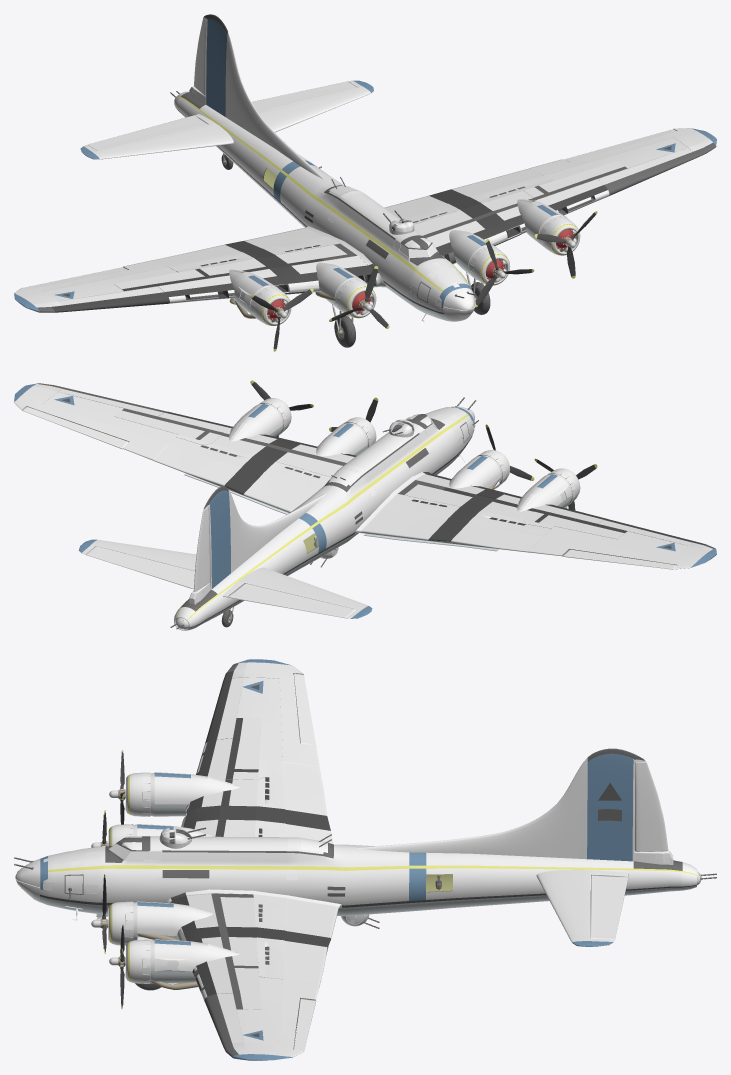
The picture shows the model from 3 angles, top to bottom: view 1: azimuth 30°, elevation 25°; view 2: azimuth 150°, elevation 25°; view 3: azimuth 270°, elevation 25°; orthographic projection. The views are drawn at different scales.
Parts seen in each view (by area): view 1: Node1; view 2: Node1; view 3: Node1.
Part boxes in pixels (<box>): Node1: <box>14,14,716,351</box>; Node1: <box>14,380,716,630</box>; Node1: <box>14,659,716,1060</box>.
Bounding box in the file's own units: 9.67 × 2.28 × 7.19.
